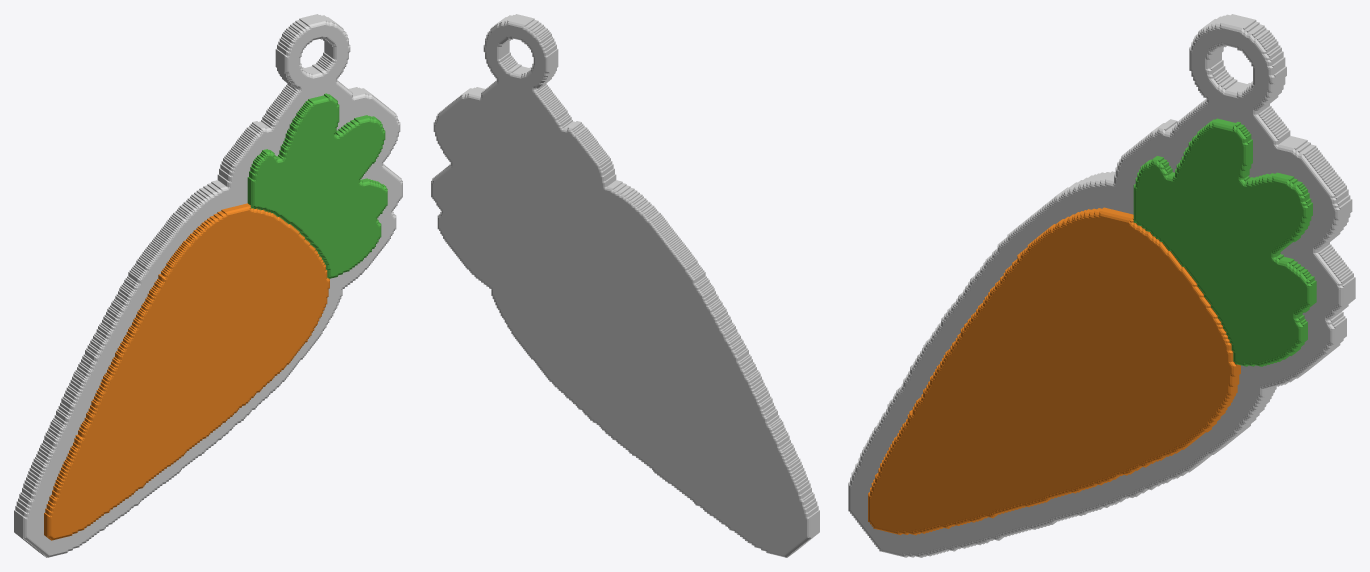
File: carrot_multicolour.obj
3 views of the same model, side by side, from view 1: azimuth 30°, elevation 25°; view 2: azimuth 150°, elevation 25°; view 3: azimuth 330°, elevation 25° (orthographic). The views are drawn at different scales.
Parts seen in each view (by area): view 1: part_2_orange_body, part_1_base_white, part_3_green_leaves; view 2: part_1_base_white; view 3: part_2_orange_body, part_1_base_white, part_3_green_leaves.
Boxes of the visible parts, x1=… form: part_2_orange_body: x1=44, y1=203, x2=329, y2=540; part_1_base_white: x1=14, y1=14, x2=402, y2=557; part_3_green_leaves: x1=247, y1=93, x2=387, y2=278; part_1_base_white: x1=431, y1=14, x2=819, y2=557; part_2_orange_body: x1=868, y1=207, x2=1240, y2=535; part_1_base_white: x1=848, y1=14, x2=1355, y2=557; part_3_green_leaves: x1=1133, y1=118, x2=1316, y2=366.
Size of the model in its own units: 57.8 by 68.2 by 4.2.
